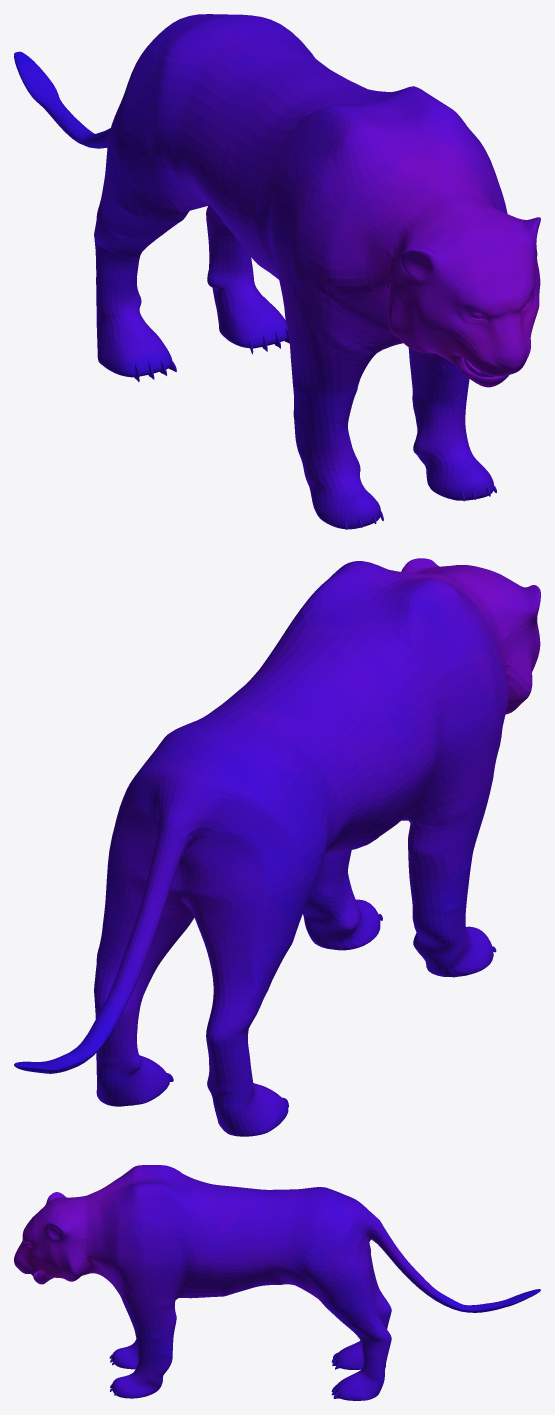
File: pred.glb
The picture shows the model from 3 angles, top to bottom: view 1: azimuth 30°, elevation 25°; view 2: azimuth 150°, elevation 25°; view 3: azimuth 270°, elevation 25°; orthographic projection. The views are drawn at different scales.
Bounding box in the file's own units: 0.1419 × 0.2599 × 0.6076.
